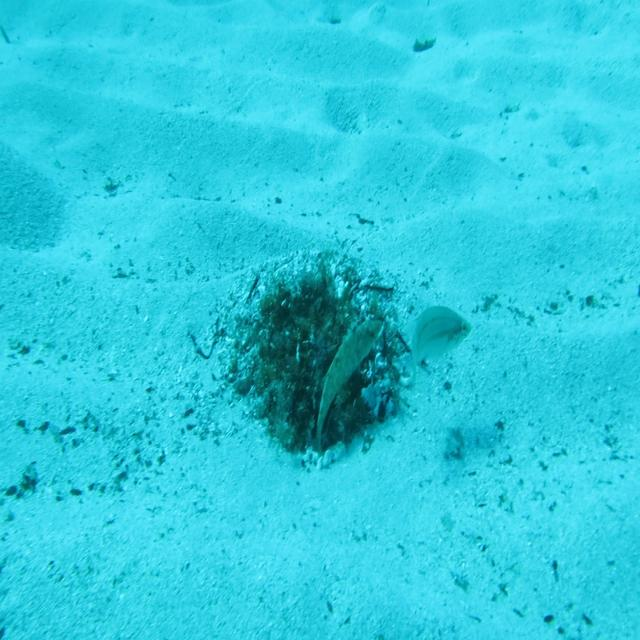MAF: (312, 314, 385, 458)
core_nest: (294, 304, 344, 344)
female: (403, 301, 473, 398)
nest: (206, 227, 426, 480)
vegetation: (410, 34, 439, 54)
